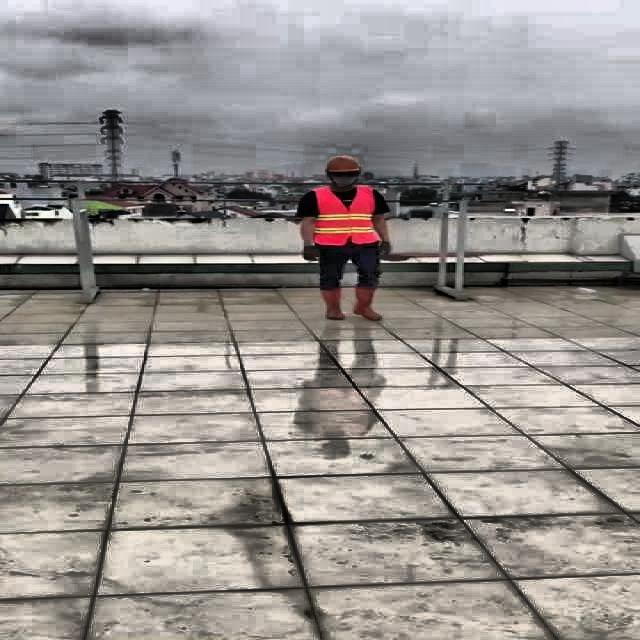safety_helmet: (322, 154, 362, 174)
safety_jacket: (314, 188, 378, 245)
